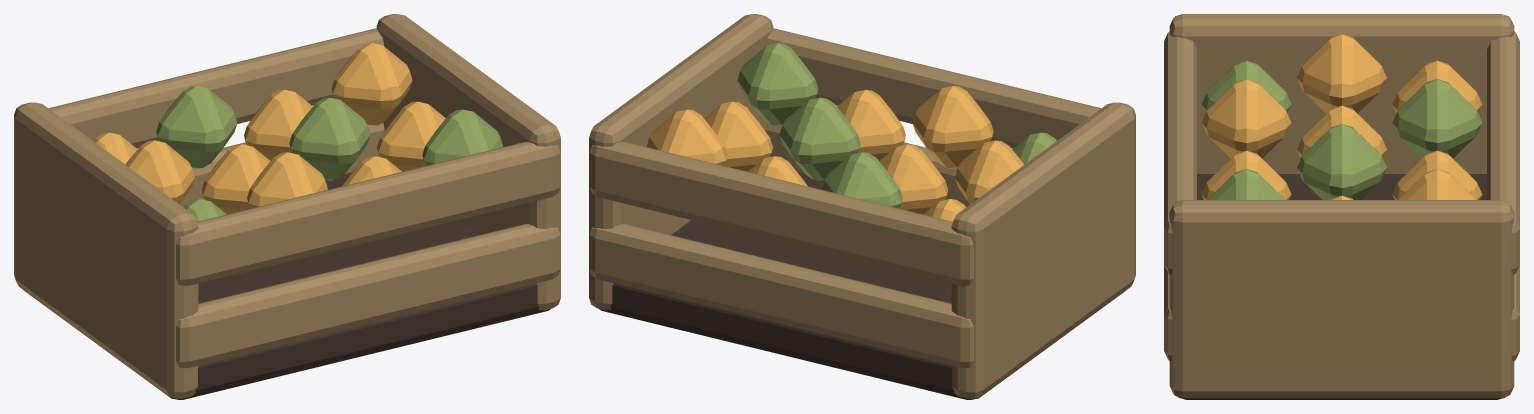
File: prop_produce_crate__attachments.glb
3 views of the same model, side by side, from view 1: azimuth 30°, elevation 25°; view 2: azimuth 150°, elevation 25°; view 3: azimuth 270°, elevation 25° (orthographic). The views are drawn at different scales.
Visible parts, largest first — view 1: prop_produce_crate__attachments__mesh_00; view 2: prop_produce_crate__attachments__mesh_00; view 3: prop_produce_crate__attachments__mesh_00.
Boxes of the visible parts, <box> form: prop_produce_crate__attachments__mesh_00: <box>14,14,560,399</box>; prop_produce_crate__attachments__mesh_00: <box>589,14,1135,399</box>; prop_produce_crate__attachments__mesh_00: <box>1164,14,1519,399</box>.
Size of the model in its own units: 0.65 by 0.3056 by 0.485.
